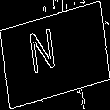N_S: (39, 26, 71, 84)
